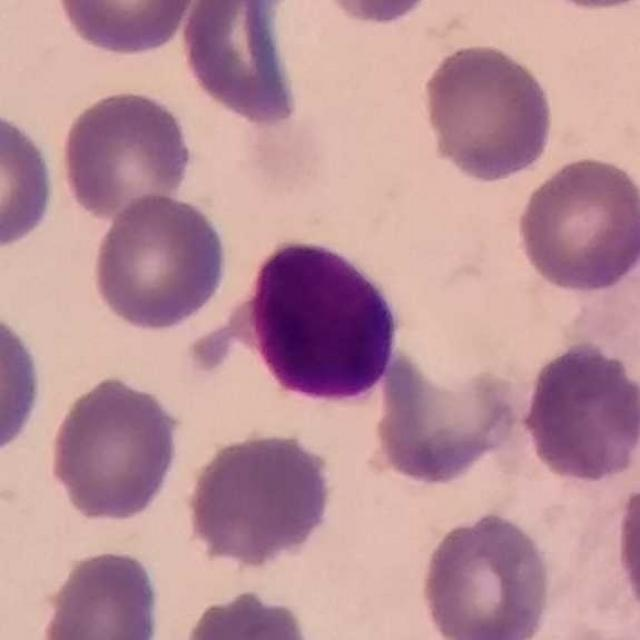Lymphocyte: (183, 221, 405, 406)
Platelets: (541, 0, 638, 16)
RBC: (182, 426, 338, 571), (370, 348, 528, 488), (46, 371, 186, 525), (88, 189, 233, 334), (418, 39, 558, 185), (57, 86, 196, 222), (415, 507, 555, 640), (517, 336, 640, 486), (513, 152, 640, 295), (178, 0, 306, 129), (36, 545, 164, 640), (51, 0, 206, 58), (0, 103, 59, 255), (178, 585, 318, 640), (0, 305, 47, 464), (612, 467, 640, 628), (310, 0, 440, 28), (530, 0, 638, 16)
